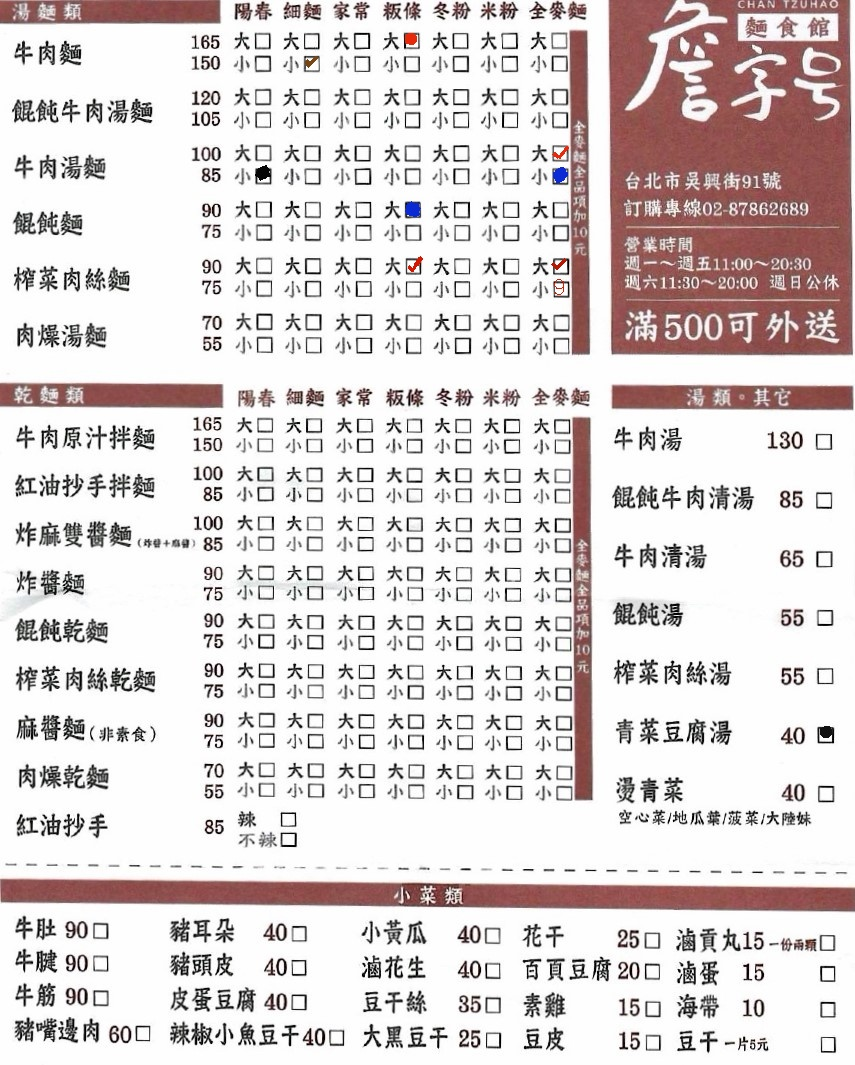marked_circle: (550, 166, 568, 183), (816, 725, 834, 742), (404, 200, 422, 217), (254, 165, 272, 182), (403, 32, 418, 48)
marked_number_9: (551, 279, 569, 296)
marked_tick: (551, 144, 569, 161), (551, 256, 569, 273), (404, 257, 422, 274), (303, 55, 319, 70)
